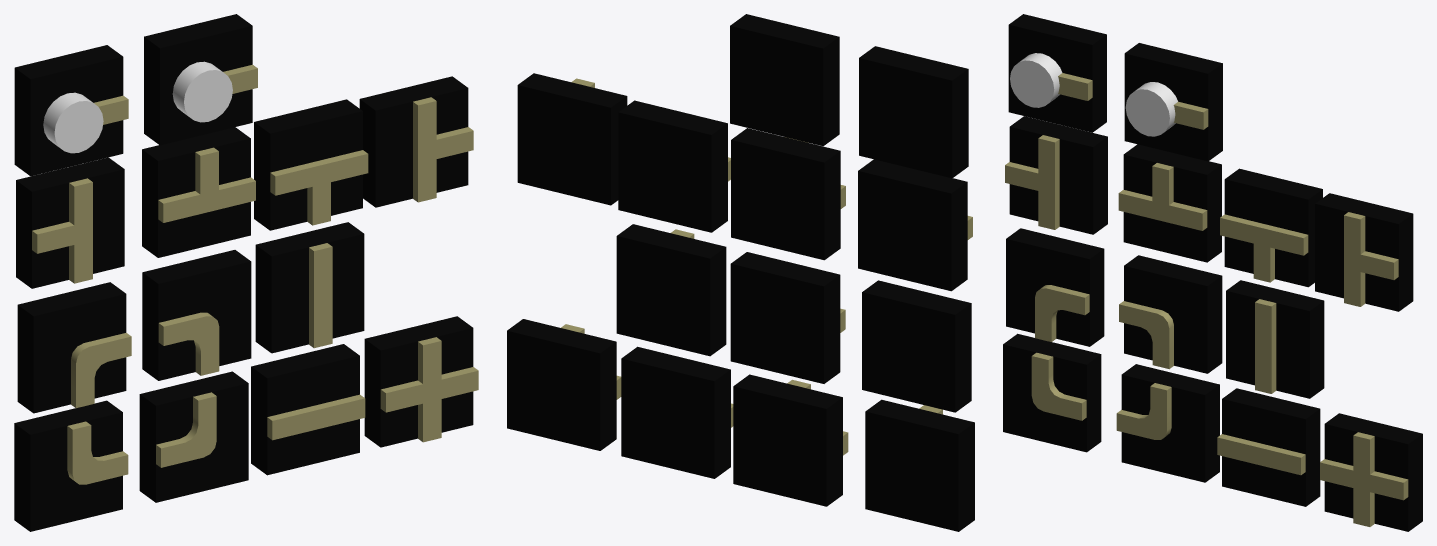
File: gimmicktile.fbx
3 views of the same model, side by side, from view 1: azimuth 30°, elevation 25°; view 2: azimuth 150°, elevation 25°; view 3: azimuth 330°, elevation 25° (orthographic). The views are drawn at different scales.
Parts seen in each view (by area): view 1: A, G, B, E, goal, J, F, C, H, start, D, I (+1 smaller); view 2: D, G, E, B, I, C, H, F, J, start, A, goal (+1 smaller); view 3: B, G, H, E, K, A, F, D, I, start, goal, C (+1 smaller).
Boxes of the visible parts, x1,y1,x2,y2 form: A: [17, 282, 131, 413]; G: [364, 316, 478, 447]; B: [142, 250, 251, 380]; E: [255, 222, 364, 353]; goal: [14, 45, 128, 176]; J: [254, 99, 368, 230]; F: [251, 344, 365, 475]; C: [14, 400, 128, 531]; H: [16, 157, 124, 288]; start: [144, 14, 257, 145]; D: [139, 371, 248, 502]; I: [142, 127, 255, 257]; D: [733, 374, 848, 506]; G: [507, 319, 621, 450]; E: [616, 224, 726, 356]; B: [730, 252, 845, 383]; I: [731, 128, 845, 260]; C: [865, 399, 974, 531]; H: [858, 159, 972, 291]; F: [621, 346, 733, 478]; J: [618, 100, 730, 232]; start: [730, 14, 839, 146]; A: [862, 280, 971, 412]; goal: [859, 46, 968, 178]; B: [1119, 255, 1222, 373]; G: [1320, 413, 1422, 531]; H: [1005, 116, 1107, 234]; E: [1226, 280, 1324, 398]; K: [1315, 193, 1413, 311]; A: [1006, 228, 1104, 346]; F: [1217, 388, 1320, 506]; D: [1116, 364, 1219, 482]; I: [1118, 144, 1221, 262]; start: [1124, 43, 1222, 161]; goal: [1008, 14, 1106, 132]; C: [1003, 333, 1101, 452].
Bounding box in the file's own units: 1202 × 1169 × 131.
